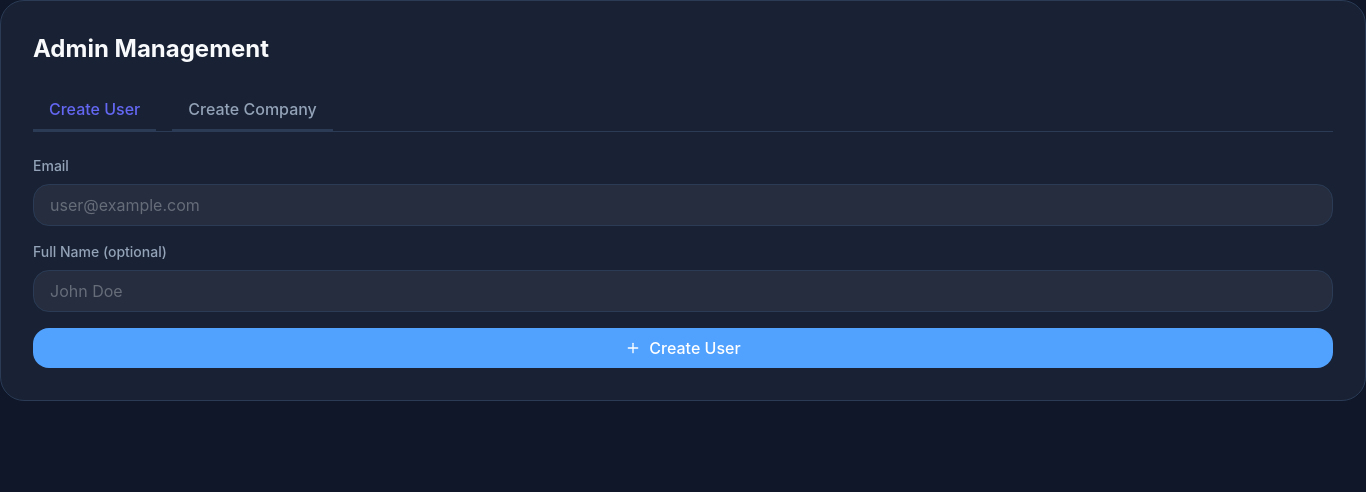
Admin Management Panel › Create User Tab › displays error on creation failure
Type "test@example.com" into the field with placeholder "user@example.com" at (683, 205), box [33,184,1333,226]
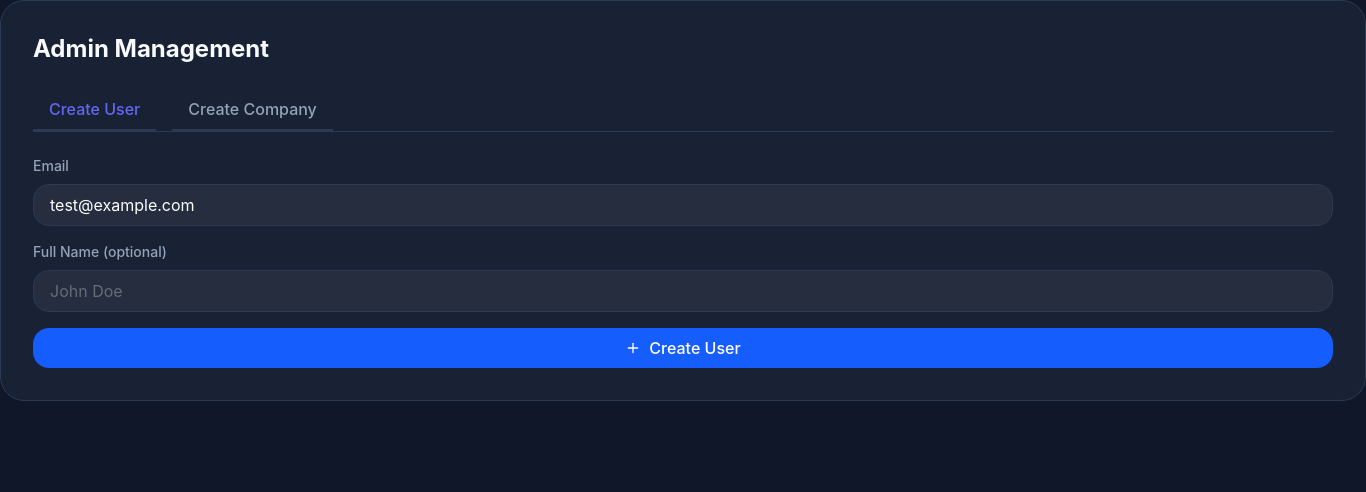
Click the button "Create User" below "Full Name (optional)" at (683, 348), box [33,328,1333,368]
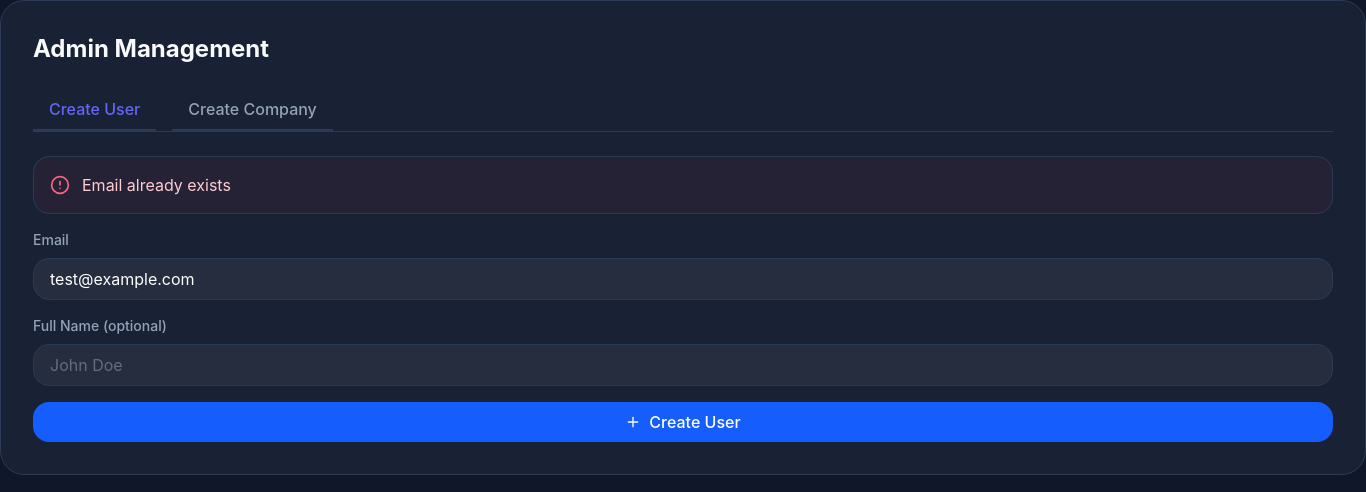
expect the text "Email already exists" is shown: met, box [82,173,231,197]
